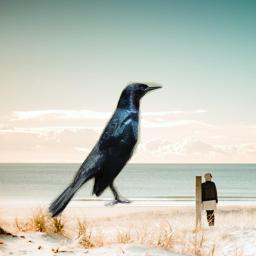Crow: (45, 81, 163, 219)
